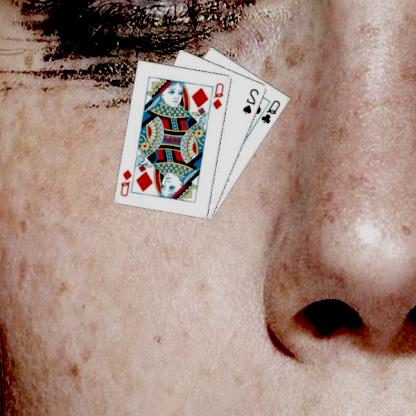2S: (242, 85, 263, 115)
QC: (260, 97, 284, 125)
QD: (120, 166, 136, 198), (212, 80, 227, 111)
